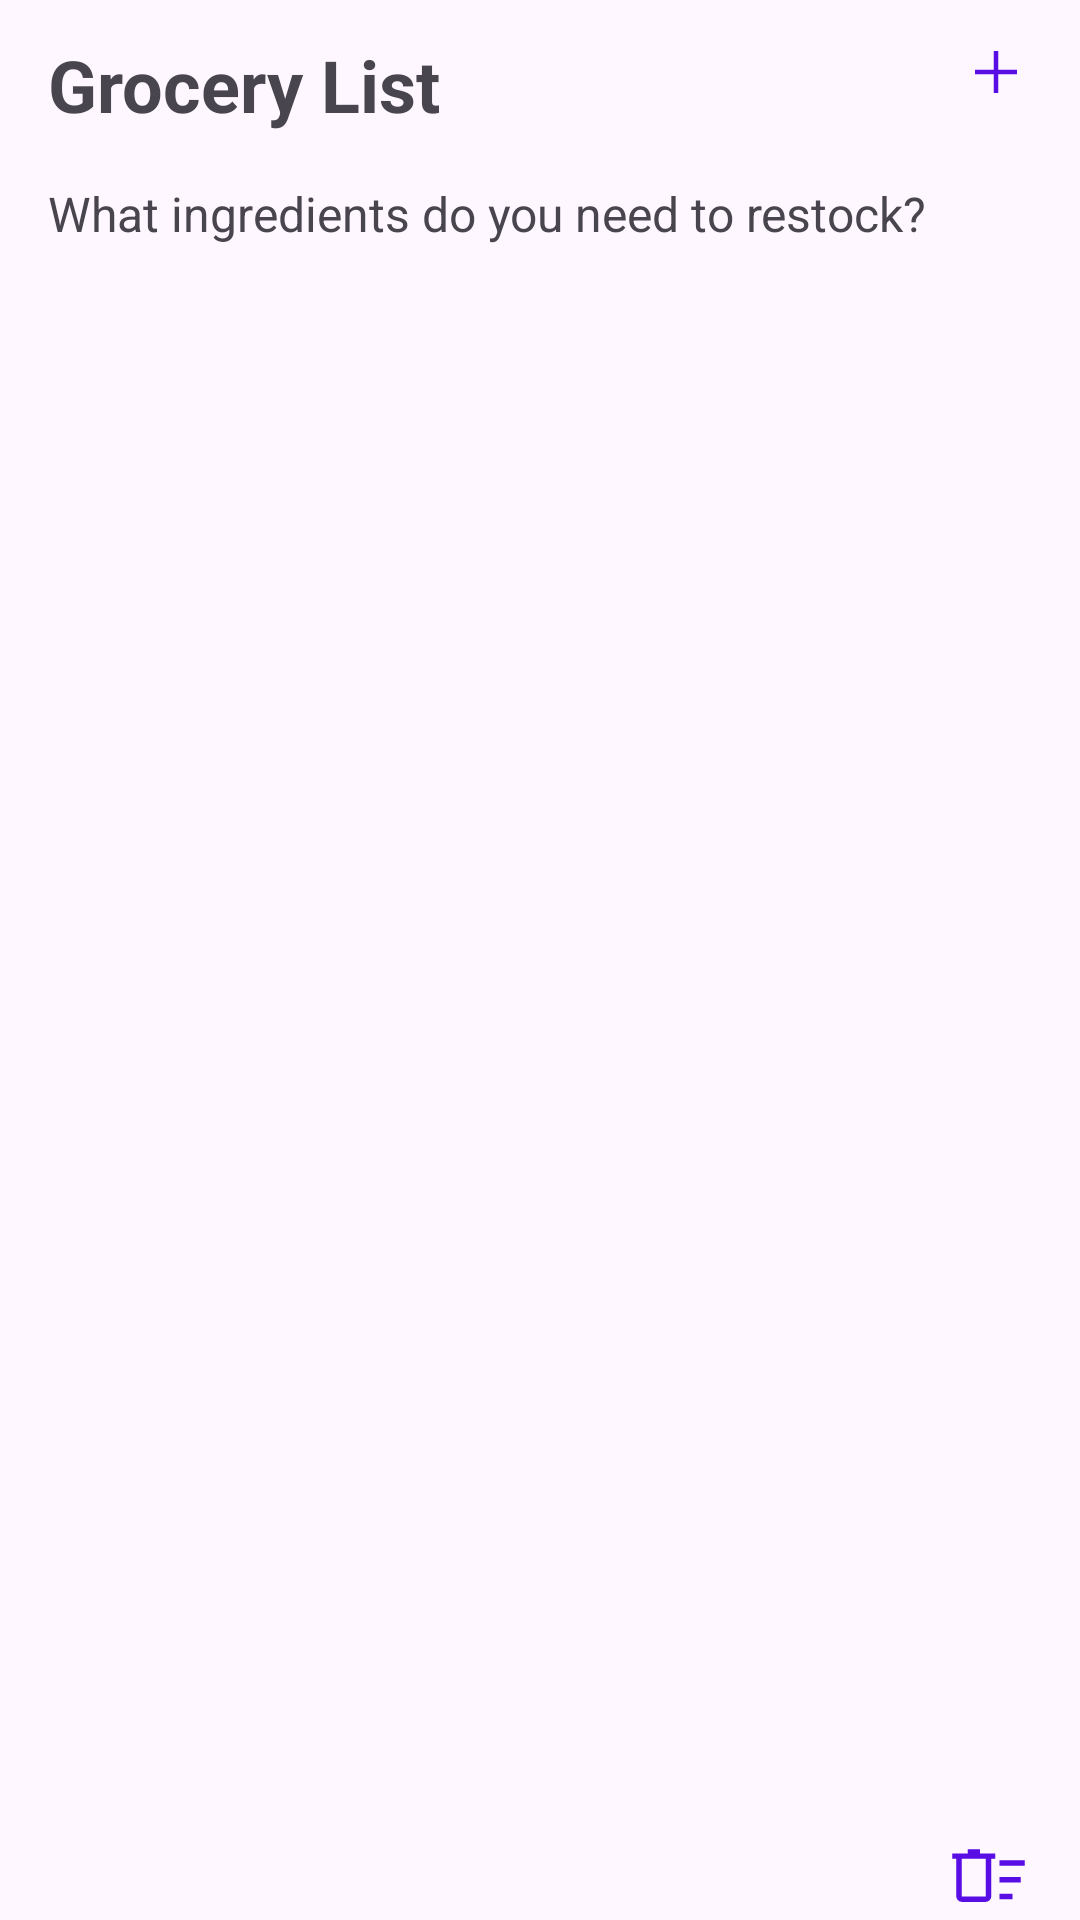

Screen size 1080px×1920px. Icon name, then its box in pixels as (x1, y1, x2, y2):
Add Ingredients: (975, 51, 1017, 93)
clear: (952, 1849, 1025, 1902)
